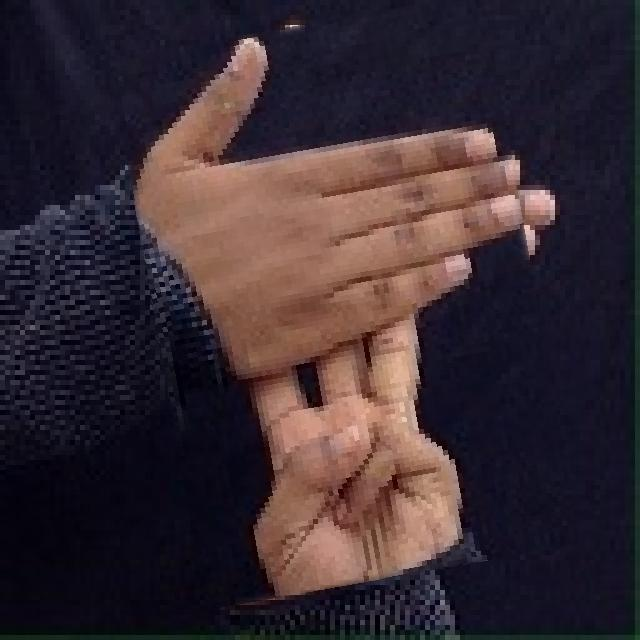M: (132, 7, 557, 595)
